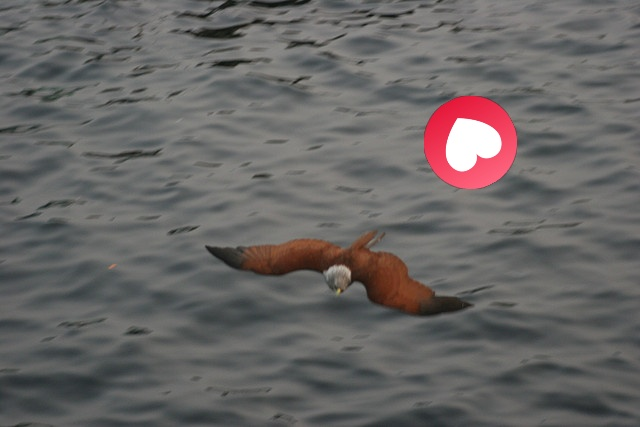love: (424, 96, 517, 189)
